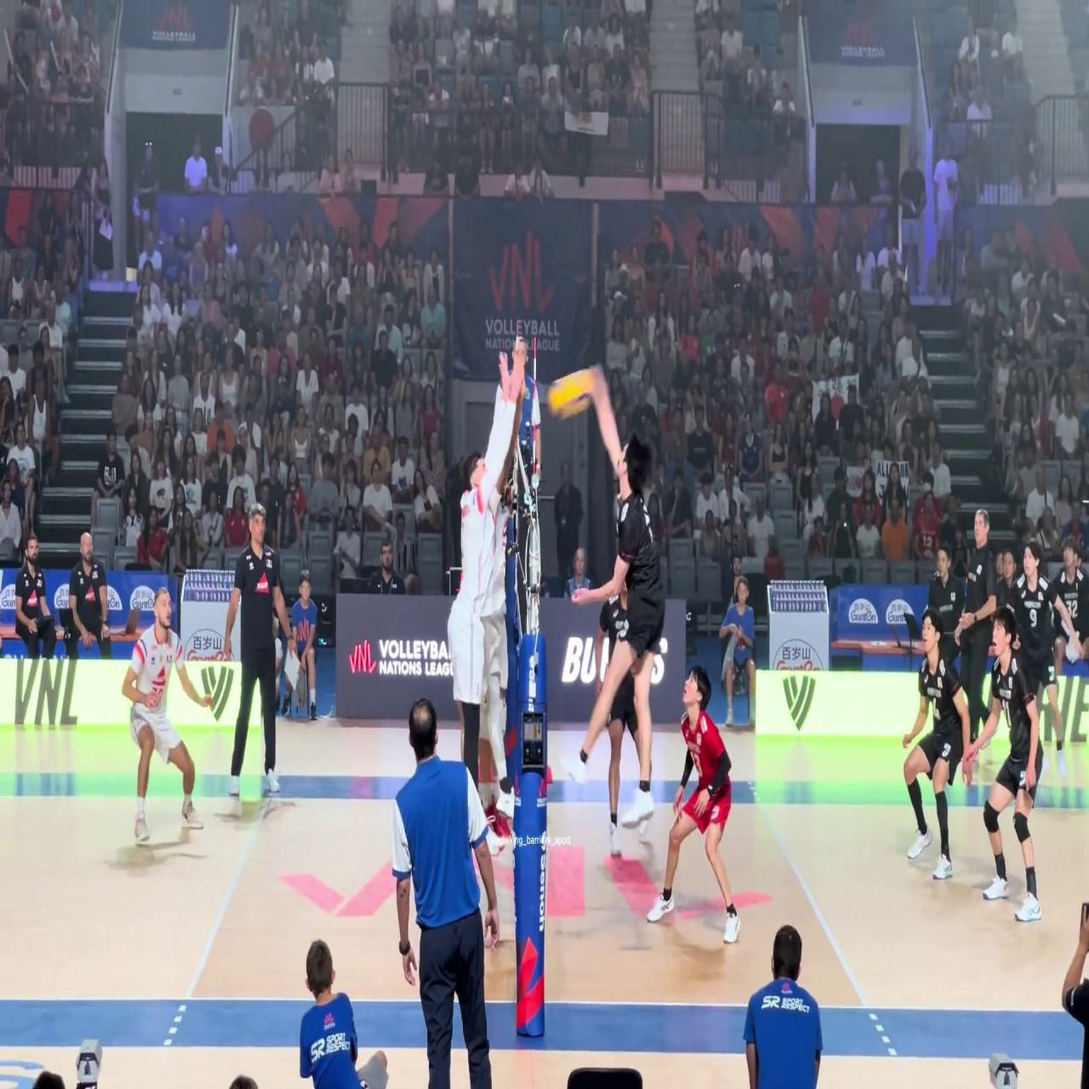ball: (549, 374, 592, 416)
